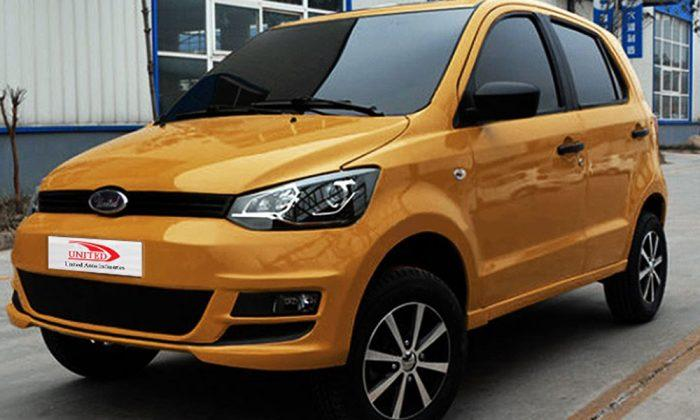windshield: (162, 2, 478, 121)
